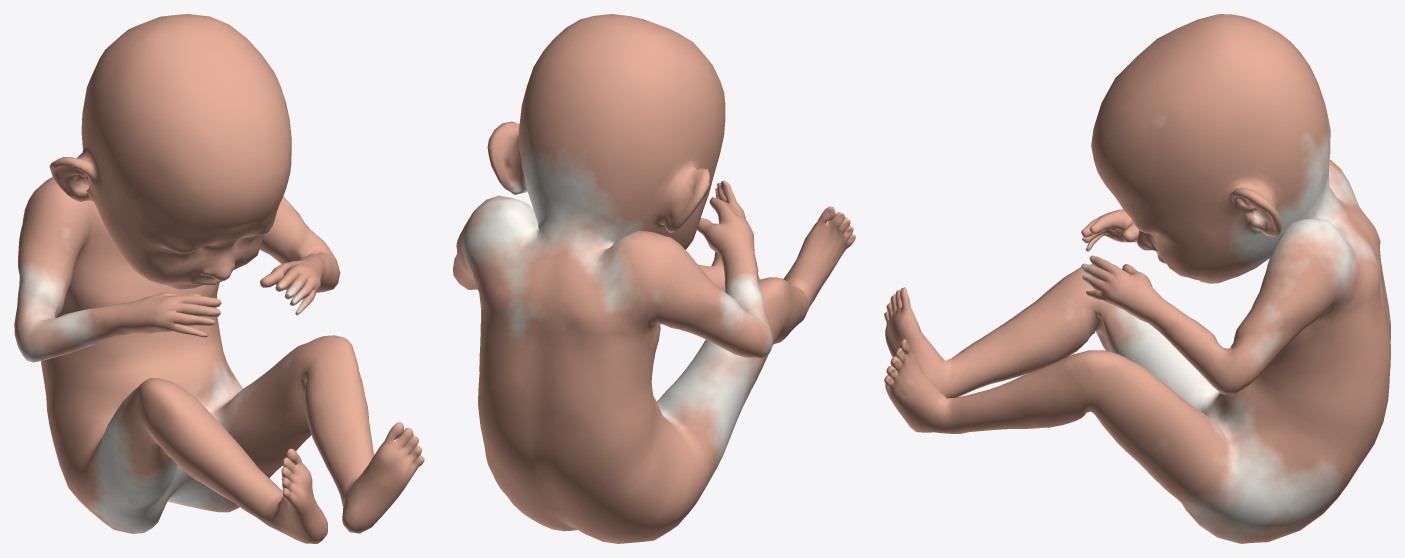
3 views of the same model, side by side, from view 1: azimuth 30°, elevation 25°; view 2: azimuth 150°, elevation 25°; view 3: azimuth 270°, elevation 25° (orthographic).
Parts seen in each view (by area): view 1: Baby; view 2: Baby; view 3: Baby.
Part boxes in pixels (left/top/right/bottom): Baby: left=14, top=14, right=424, bottom=543; Baby: left=453, top=14, right=855, bottom=543; Baby: left=884, top=14, right=1390, bottom=543.
Size of the model in its own units: 0.2037 by 0.3098 by 0.2864.
Materials: 1 (1 with a texture image).
